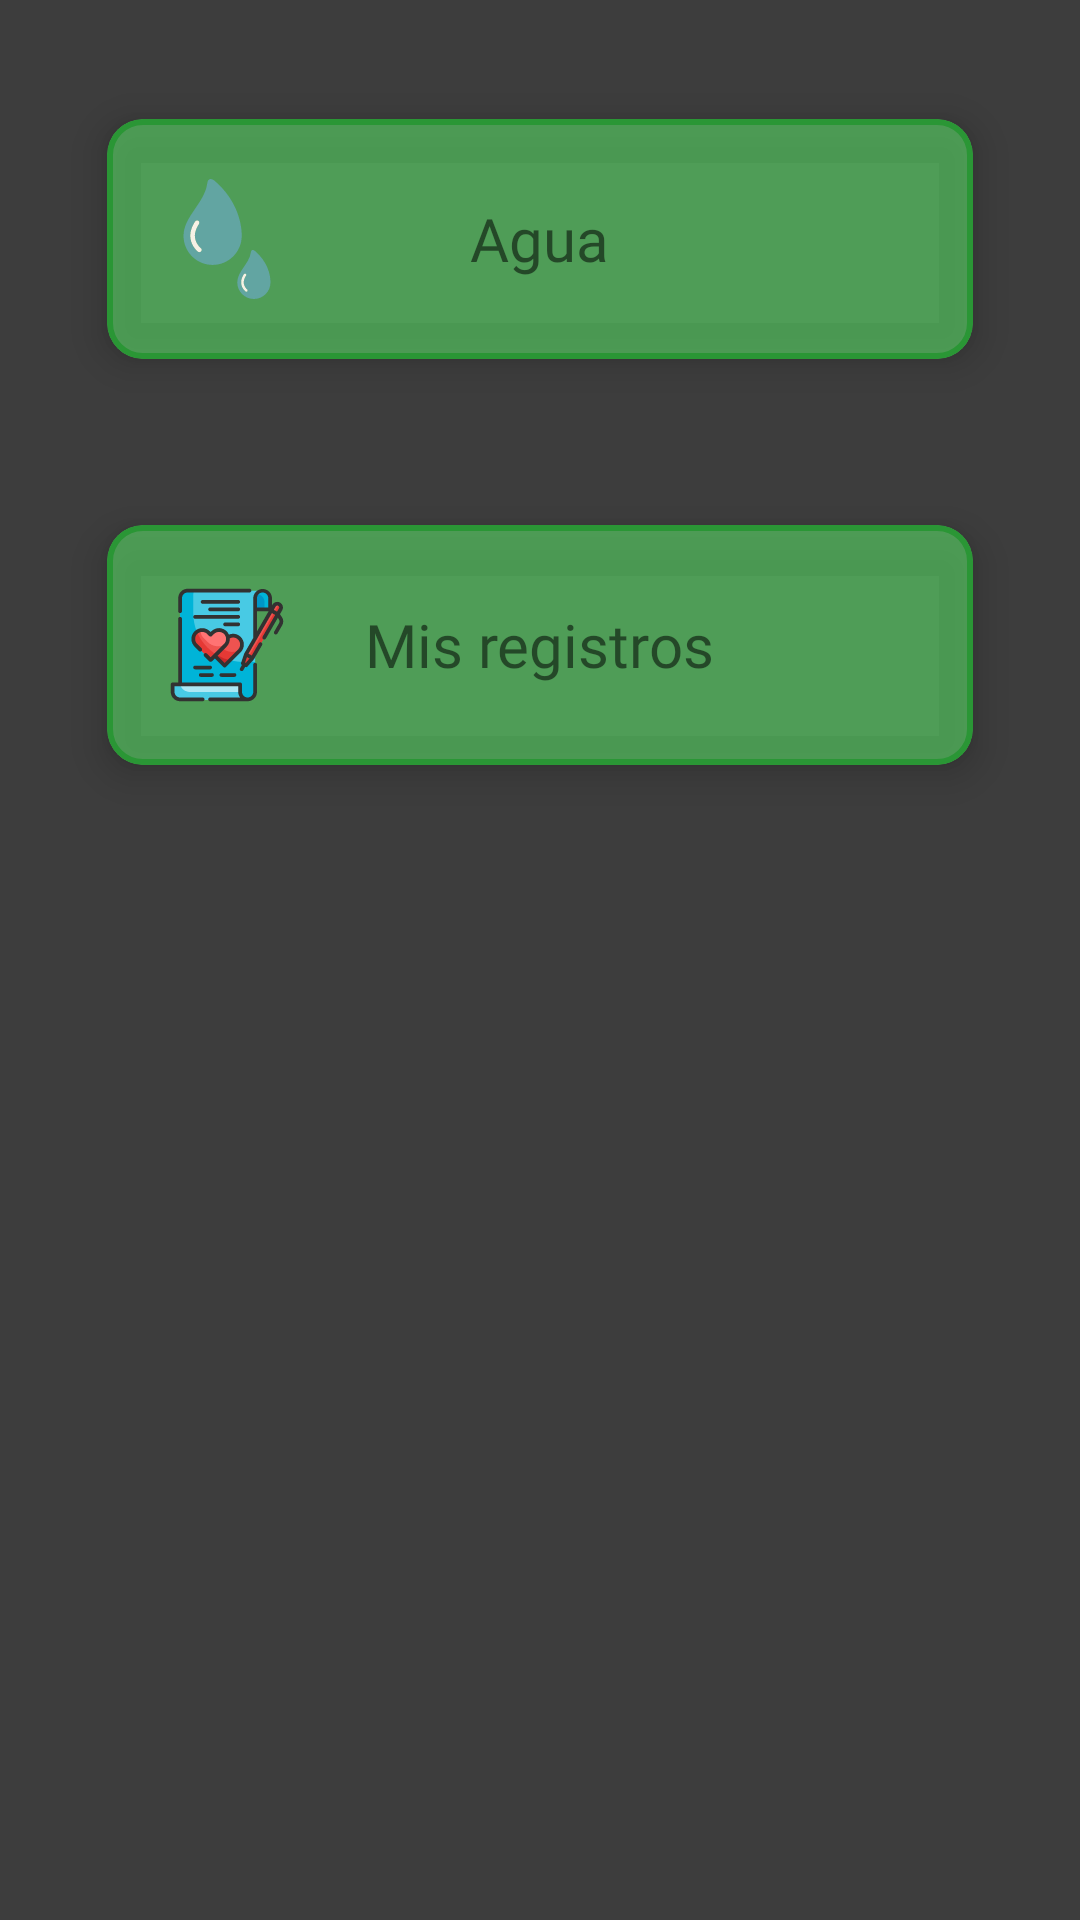

Icon click points for this 1080x1920 phone screenshot, format [x,y]:
register icon: [227,645]
water icon: [227,239]
